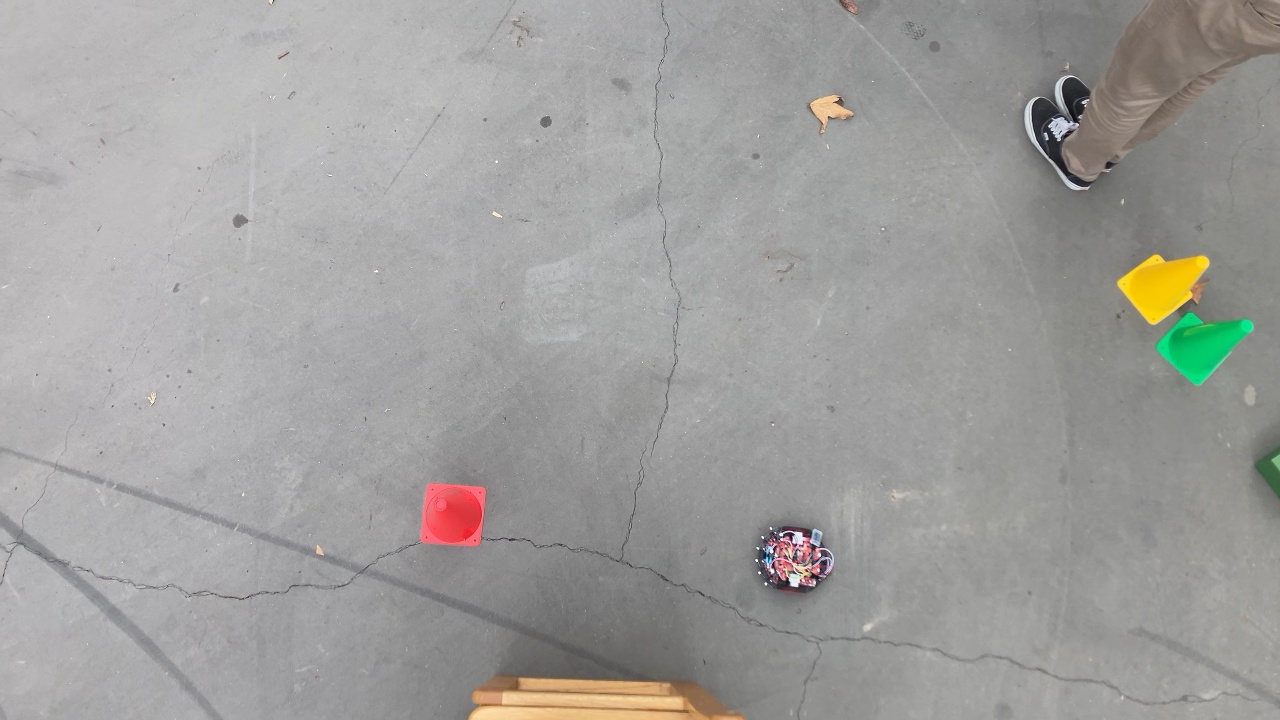green_cone: (1153, 313, 1263, 385)
red_cone: (411, 481, 488, 552)
robot: (751, 522, 838, 596)
yellow_cone: (1117, 249, 1216, 316)
